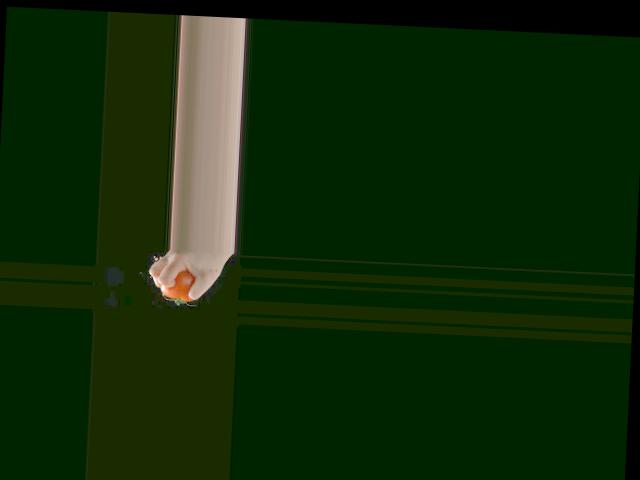tomato: (160, 269, 196, 301)
